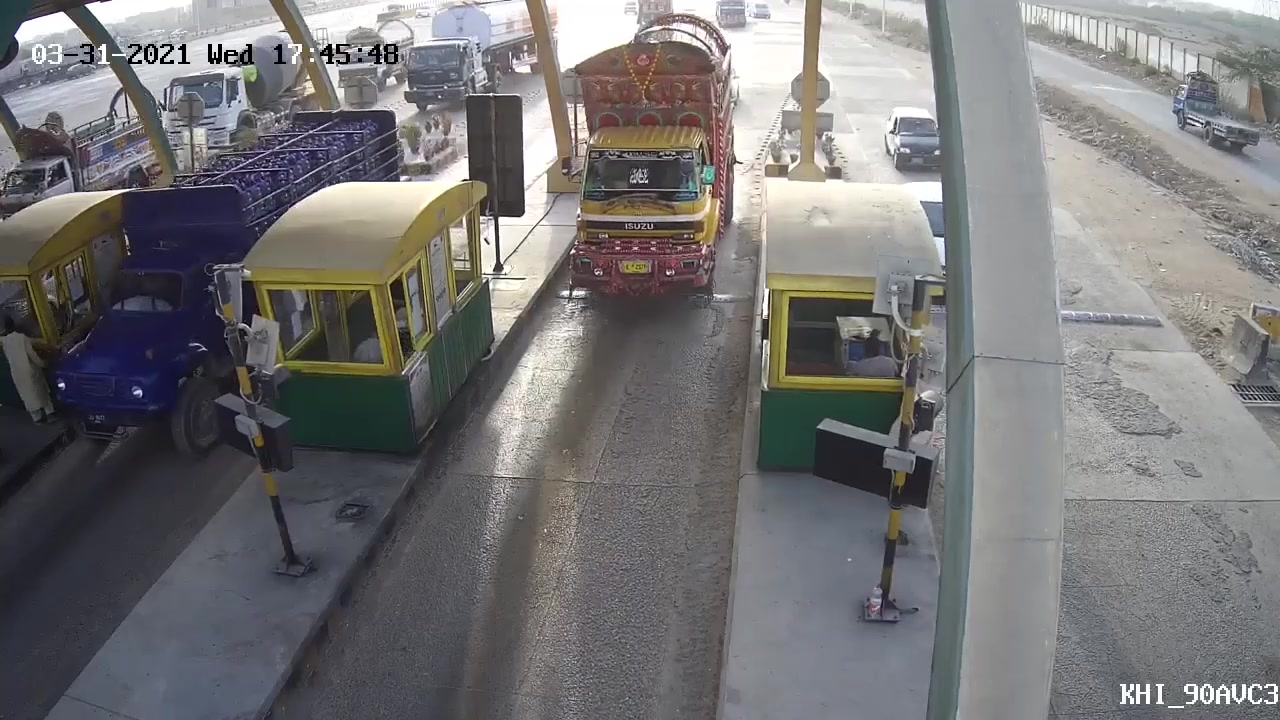F5: (546, 13, 748, 311)
